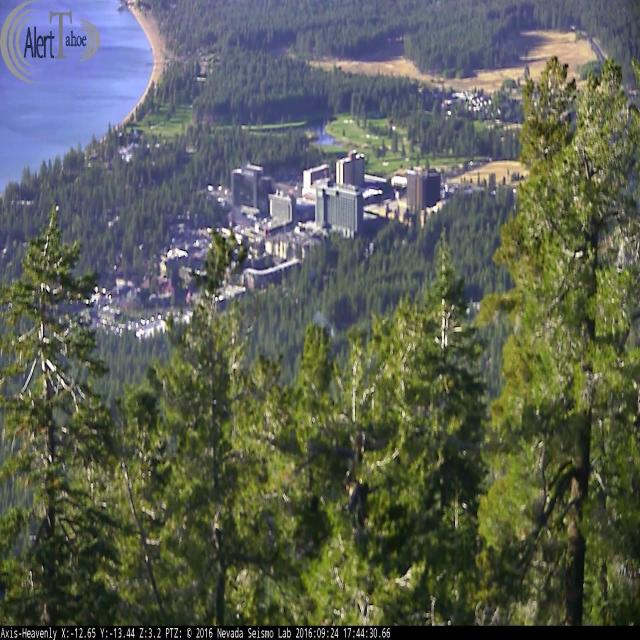smoke: (243, 312, 312, 367), (308, 304, 338, 342)
